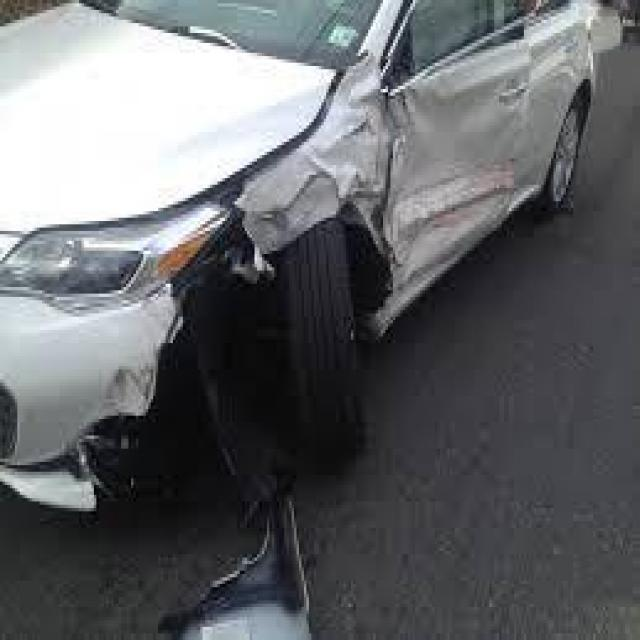damaged: (262, 23, 551, 340), (114, 198, 286, 442), (34, 409, 178, 495)
